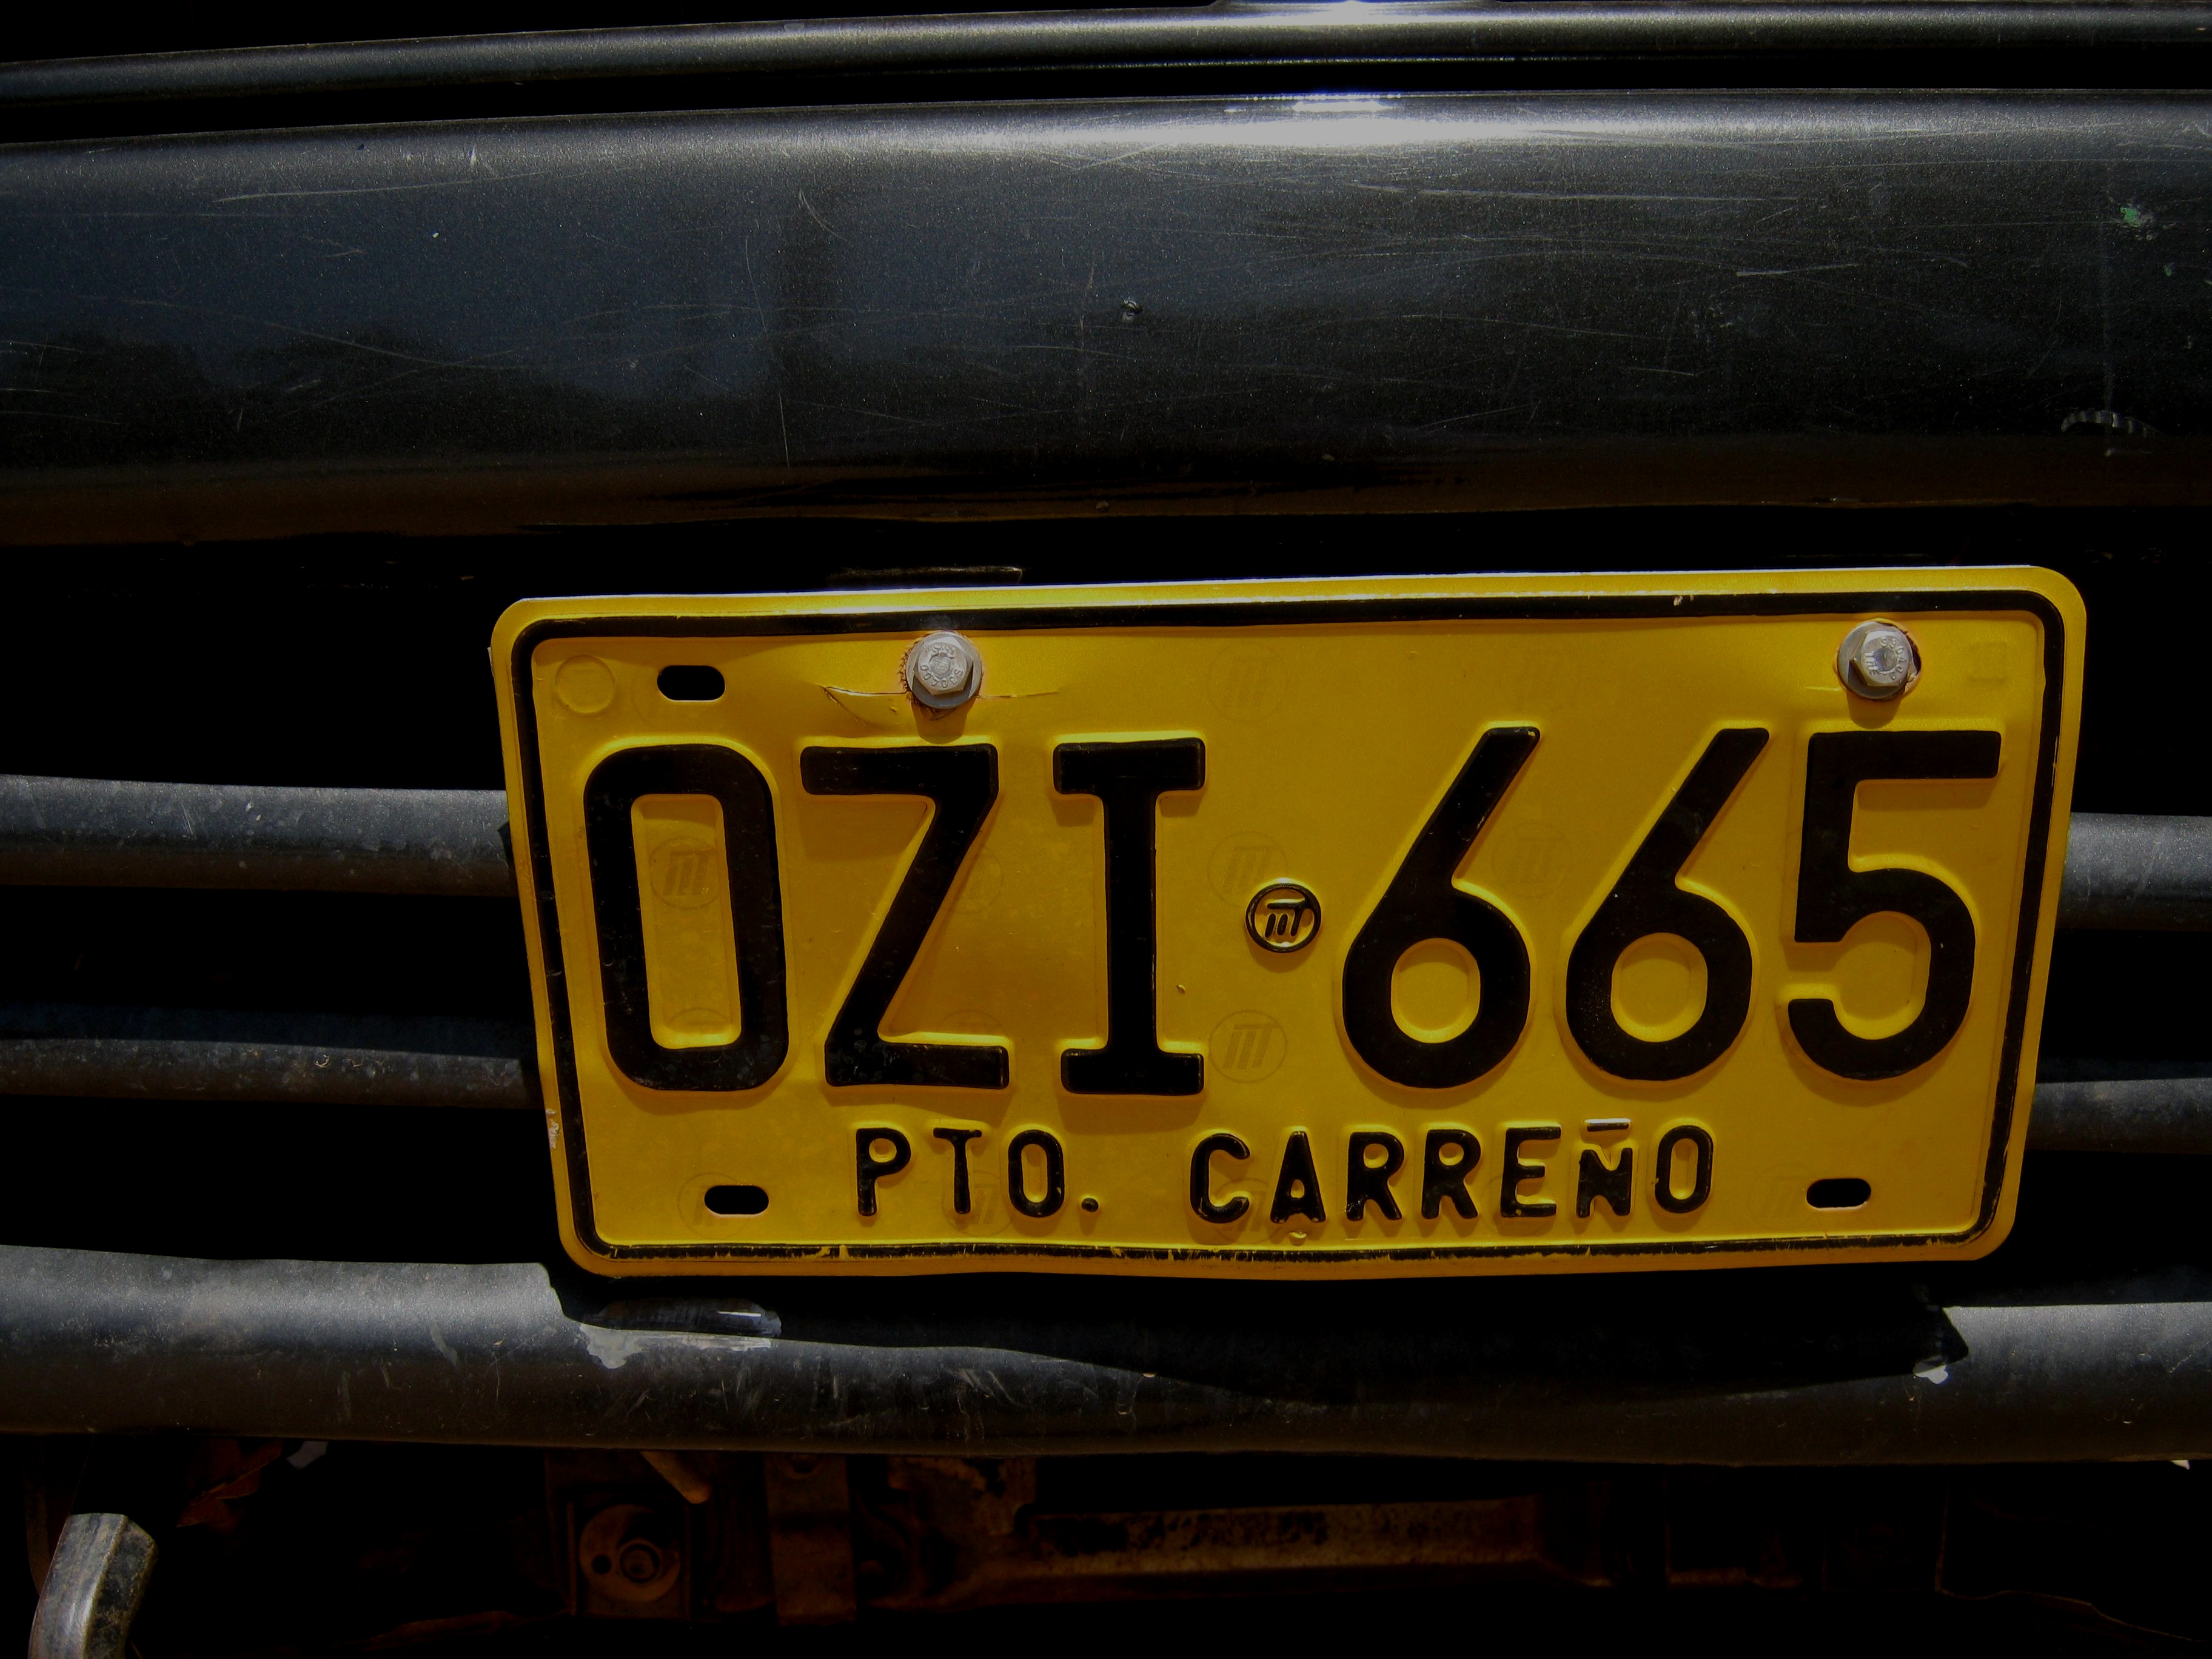placas: (483, 556, 2097, 1289)
